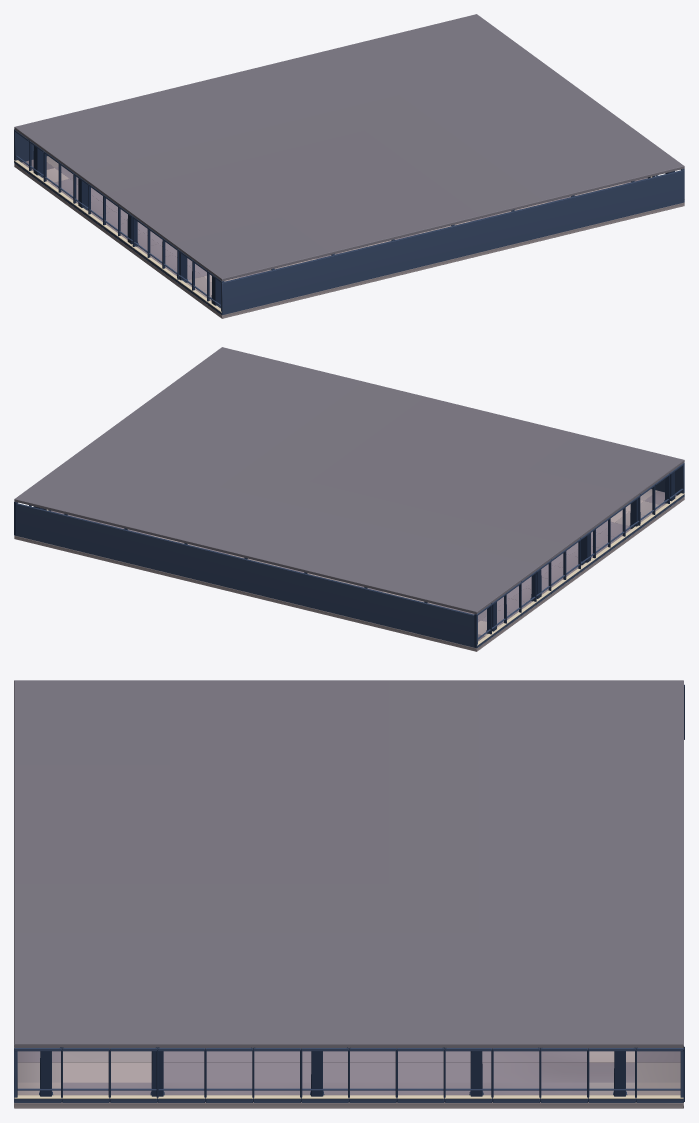
File: architecture.glb
3 views of the same model, one above another, from view 1: azimuth 30°, elevation 25°; view 2: azimuth 150°, elevation 25°; view 3: azimuth 270°, elevation 25° (orthographic). The views are drawn at different scales.
Parts seen in each view (by area): view 1: architecture; view 2: architecture; view 3: architecture.
Boxes of the visible parts, x1,y1,x2,y2 form: architecture: (14,14,684,318); architecture: (14,347,684,651); architecture: (14,680,684,1108).
Size of the model in its own units: 54.1 by 4.48 by 42.08.
